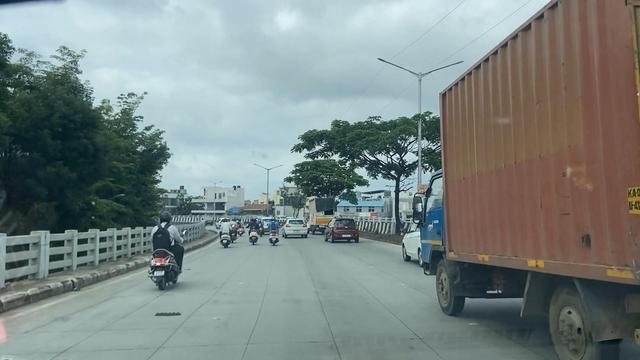LMV: (149, 210, 186, 287), (331, 217, 364, 245), (215, 215, 236, 250), (247, 217, 261, 244), (285, 220, 311, 234), (269, 217, 280, 248)
